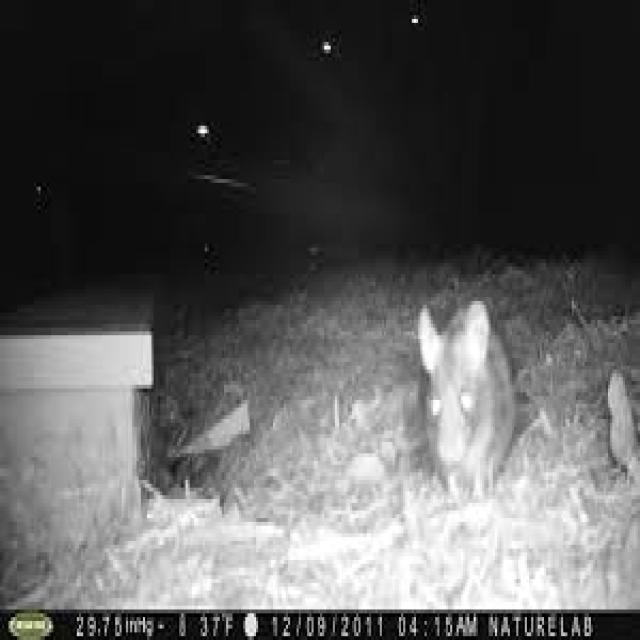Rat: (389, 254, 569, 522)
